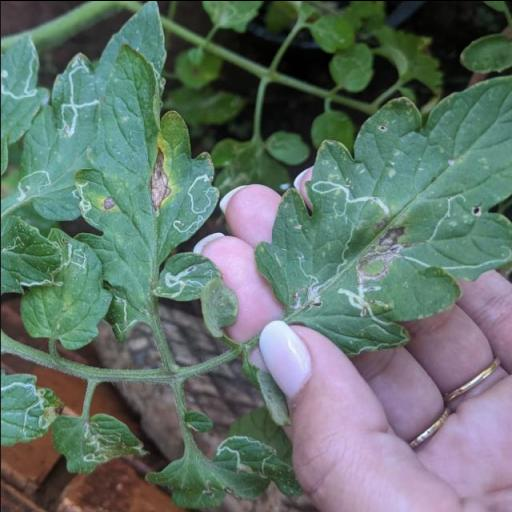Leaf Miner: (255, 74, 512, 354)
